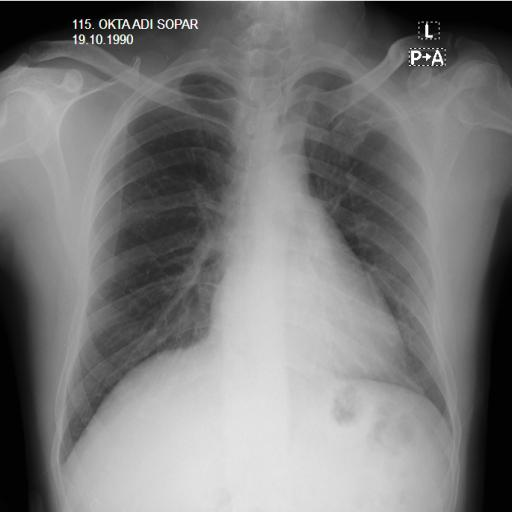kardiomegali: (50, 34, 467, 478)
